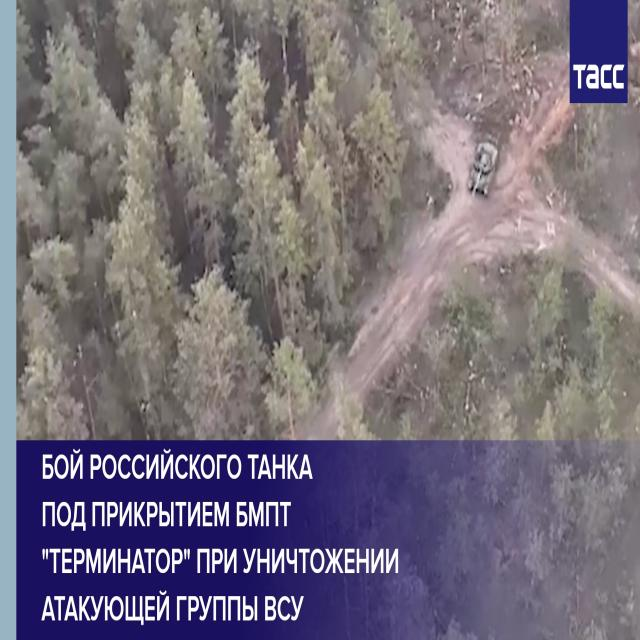tank: (468, 142, 498, 198)
